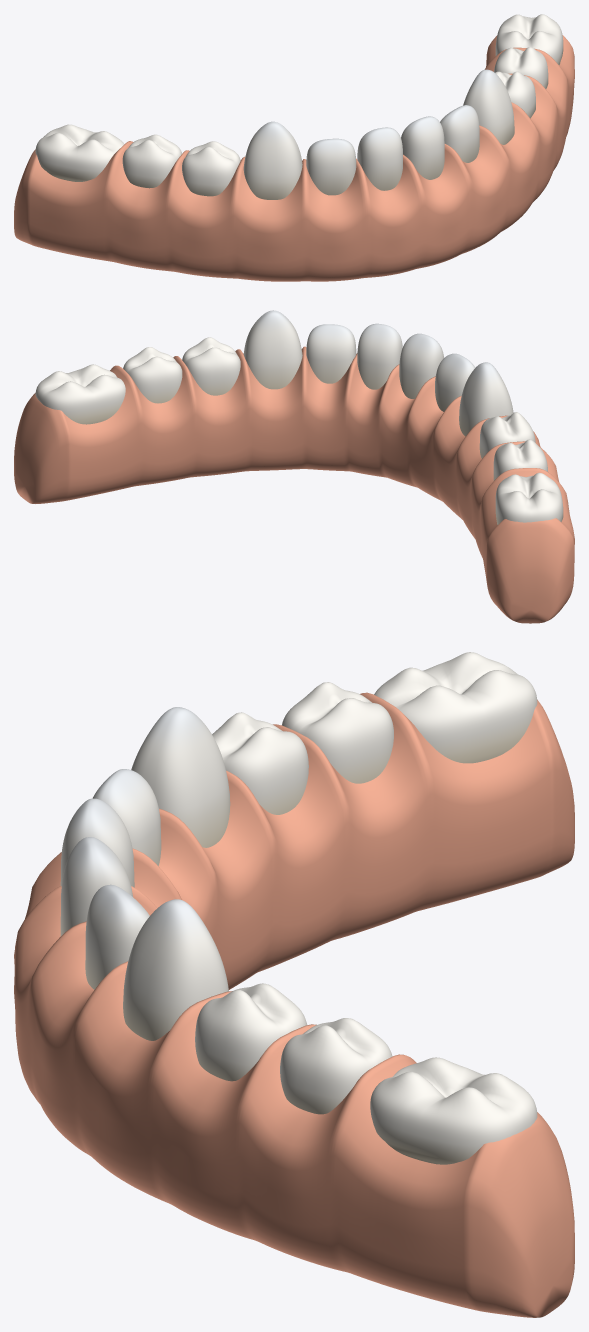
Rendered from masterclass-1.glb.
The picture shows the model from 3 angles, top to bottom: view 1: azimuth 30°, elevation 25°; view 2: azimuth 150°, elevation 25°; view 3: azimuth 270°, elevation 25°; orthographic projection. The views are drawn at different scales.
Parts seen in each view (by area): view 1: Gengiva, Dente_0, Dente_3, Dente_2, Dente_8, Dente_4, Dente_5, Dente_1, Dente_11, Dente_6, Dente_7, Dente_10 (+1 smaller); view 2: Gengiva, Dente_11, Dente_8, Dente_0, Dente_3, Dente_9, Dente_7, Dente_6, Dente_10, Dente_5, Dente_4, Dente_2 (+1 smaller); view 3: Gengiva, Dente_11, Dente_0, Dente_8, Dente_3, Dente_10, Dente_9, Dente_1, Dente_2, Dente_7, Dente_6, Dente_4 (+1 smaller).
Part boxes in pixels (x1,y1,x2,y2): Gengiva: (14,35,574,281); Dente_0: (35,124,124,181); Dente_3: (243,121,302,199); Dente_2: (182,141,240,196); Dente_8: (463,69,514,144); Dente_4: (306,138,356,195); Dente_5: (357,127,402,190); Dente_1: (122,134,181,188); Dente_11: (495,14,563,65); Dente_6: (401,116,444,179); Dente_7: (440,105,479,162); Dente_10: (494,47,548,88); Gengiva: (14,346,574,623); Dente_11: (35,364,125,424); Dente_8: (243,310,302,389); Dente_0: (495,472,563,524); Dente_3: (459,362,513,436); Dente_9: (182,337,240,395); Dente_7: (306,324,356,383); Dente_6: (357,323,402,389); Dente_10: (123,347,182,403); Dente_5: (399,333,443,398); Dente_4: (435,353,475,411); Dente_2: (479,412,535,458); Gengiva: (14,692,574,1317); Dente_11: (370,1057,537,1164); Dente_0: (374,652,537,763); Dente_8: (123,899,228,1040); Dente_3: (131,707,230,847); Dente_10: (280,1018,392,1114); Dente_9: (195,983,307,1081); Dente_1: (282,682,393,783); Dente_2: (212,712,308,814); Dente_7: (85,884,149,989); Dente_6: (60,837,132,936); Dente_4: (92,769,161,865).
Bounding box in the file's own units: 0.0584 × 0.0153 × 0.028.
